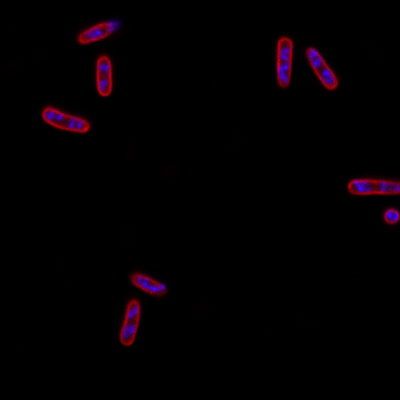Control: (41, 107, 90, 133), (120, 298, 141, 347), (349, 178, 400, 197), (275, 37, 292, 89), (96, 55, 113, 96)
Oblique: (305, 47, 338, 91), (76, 20, 122, 44), (129, 272, 166, 296), (383, 207, 399, 225)
